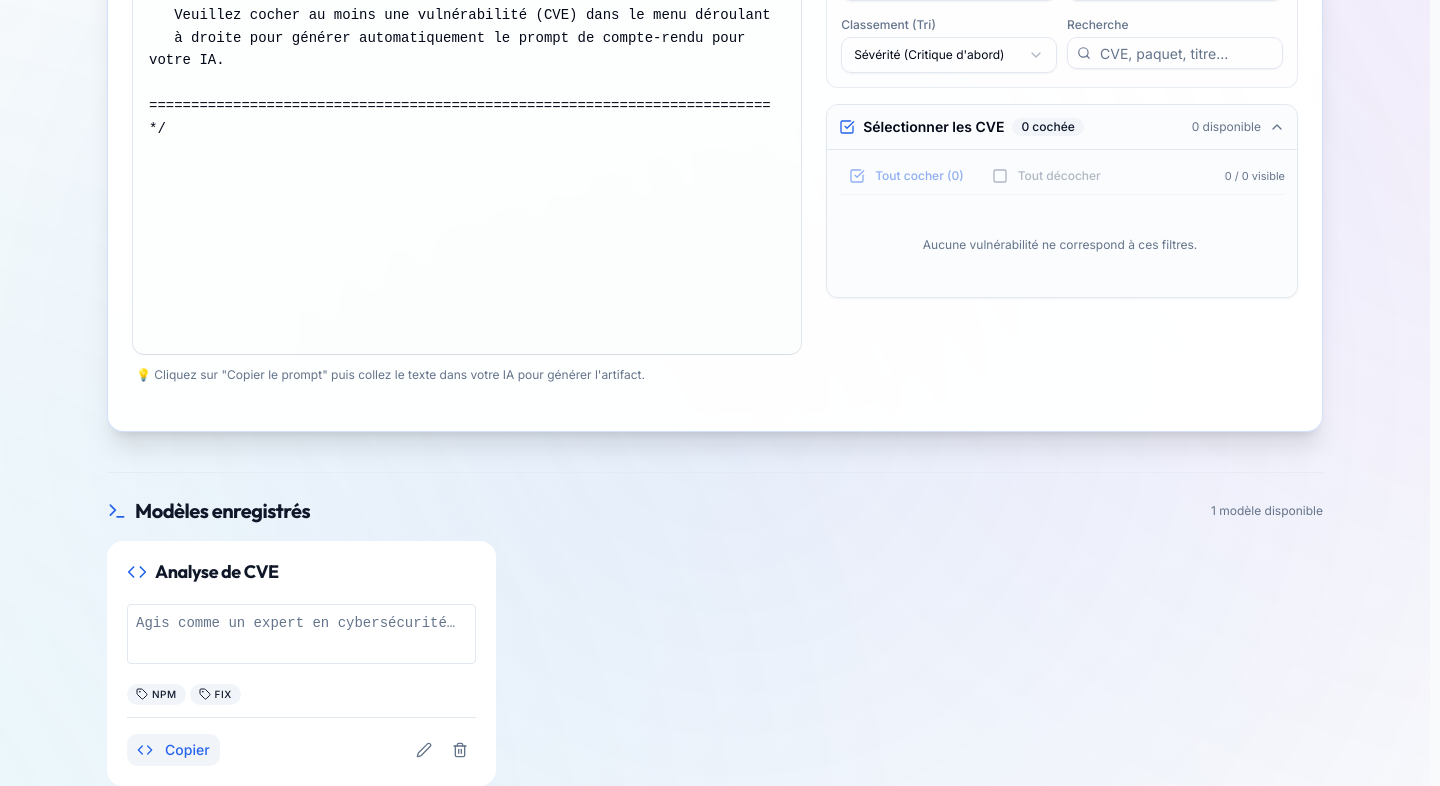
it: PromptsLibrary › modifier pré-remplit le formulaire depuis le prompt
This screenshot has width=1440, height=786.
(page scrolled)
Expected: the heading "Analyse de CVE" is shown, [155, 561, 279, 584]
Click the button titled "Modifier". click: [424, 750]
box: [408, 734, 440, 766]
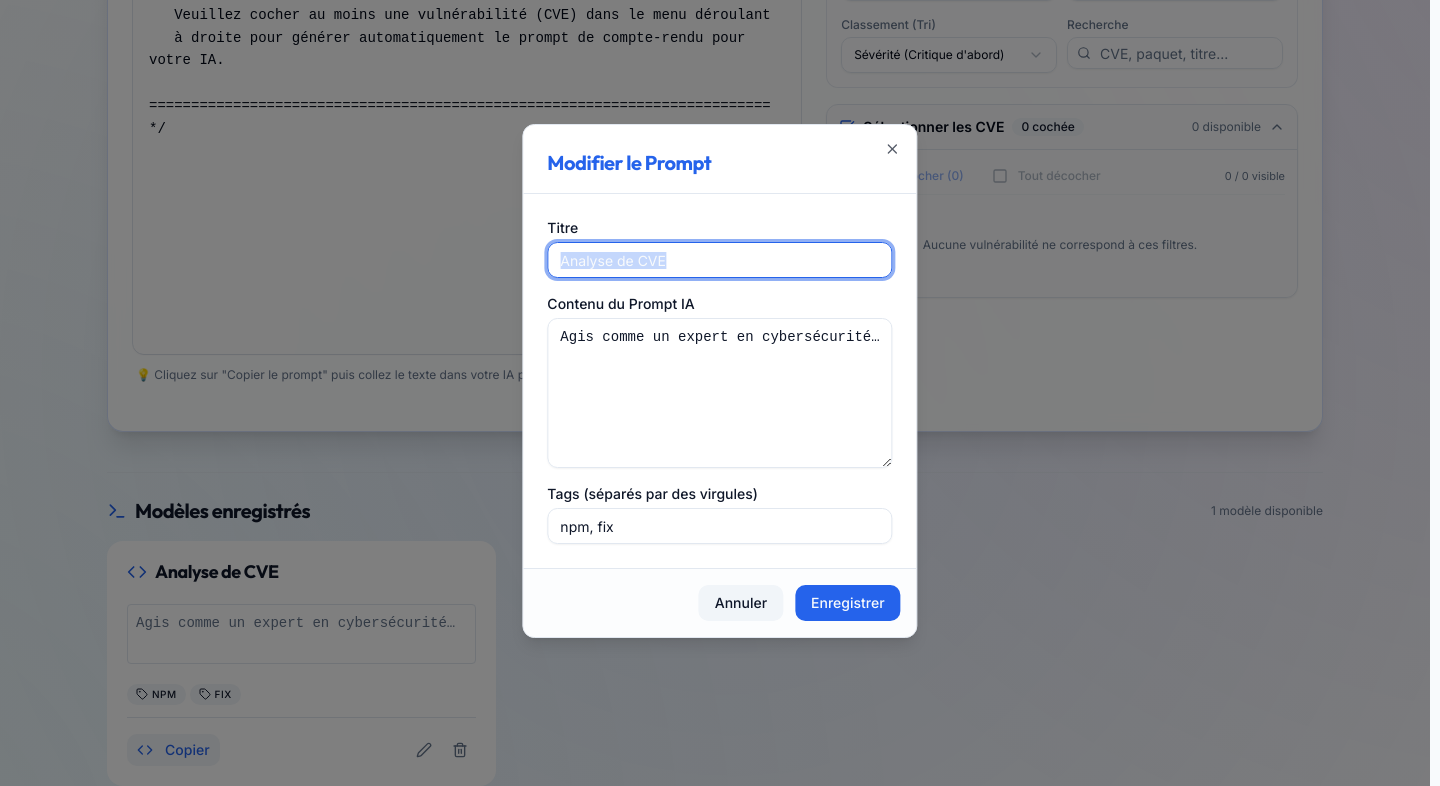
Result: the field labelled "Titre" holds "Analyse de CVE" at [547, 242, 893, 278]
Result: the field labelled "Tags (séparés par des virgules)" holds "npm, fix" at [547, 508, 893, 544]
Result: the heading "Modifier le Prompt" is shown at [547, 149, 711, 177]
